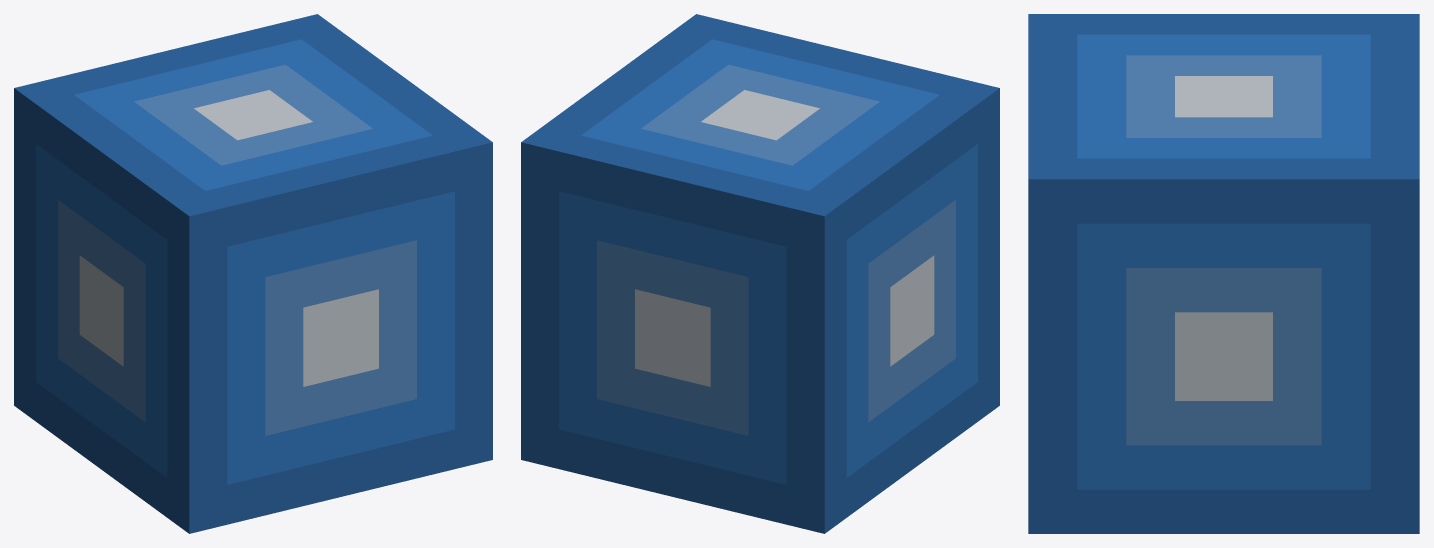
File: Blue Gem.fbx
3 renders of one model, left to right at view 1: azimuth 30°, elevation 25°; view 2: azimuth 150°, elevation 25°; view 3: azimuth 270°, elevation 25°, orthographic. The views are drawn at different scales.
Visible parts, largest first — view 1: Blue Gem; view 2: Blue Gem; view 3: Blue Gem.
Boxes of the visible parts, x1,y1,x2,y2 form: Blue Gem: (14,14,492,533); Blue Gem: (521,14,999,533); Blue Gem: (1028,14,1419,533).
Size of the model in its own units: 0.16 by 0.16 by 0.16.
1 material, 1 textured.
